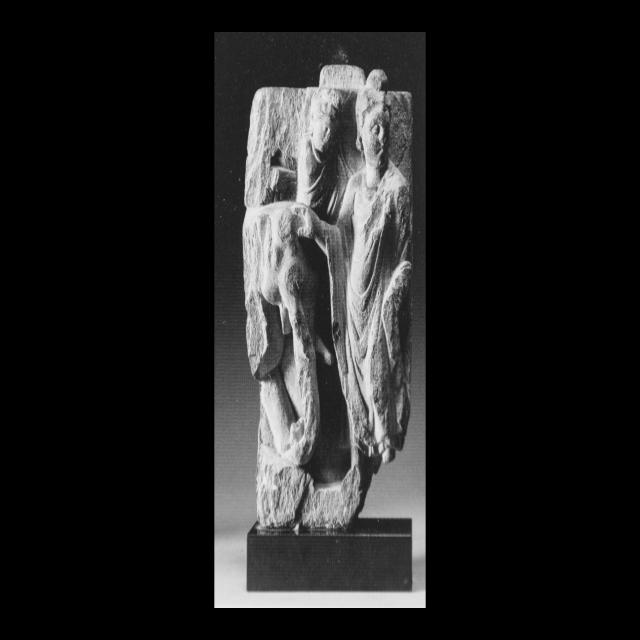buddha-standing: (300, 71, 412, 471)
